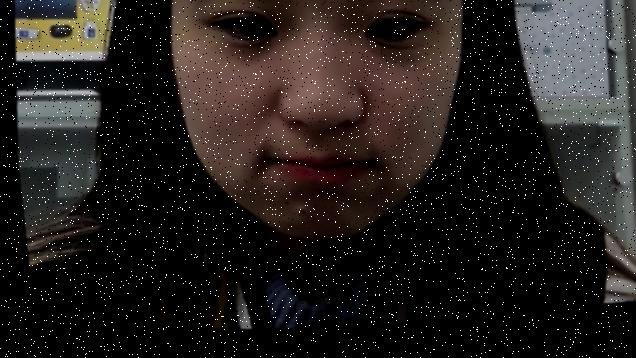eye: (240, 23, 266, 46), (375, 25, 398, 45)
iris: (214, 15, 278, 50), (361, 20, 422, 53)
